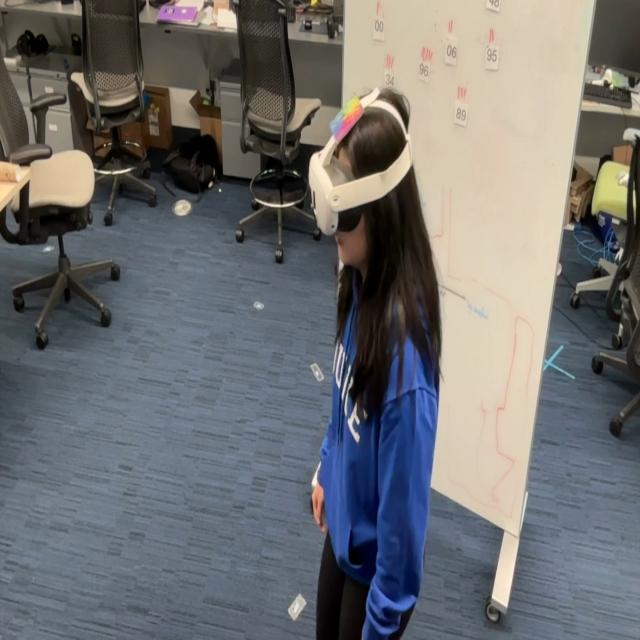Headset: (308, 86, 412, 237)
Marker: (330, 94, 365, 158)
